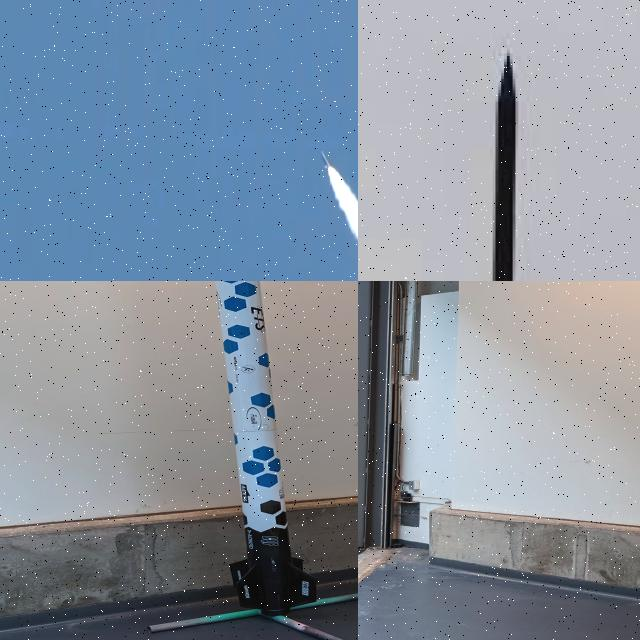Rocket: (215, 281, 317, 616), (465, 44, 530, 281), (321, 152, 331, 170)
